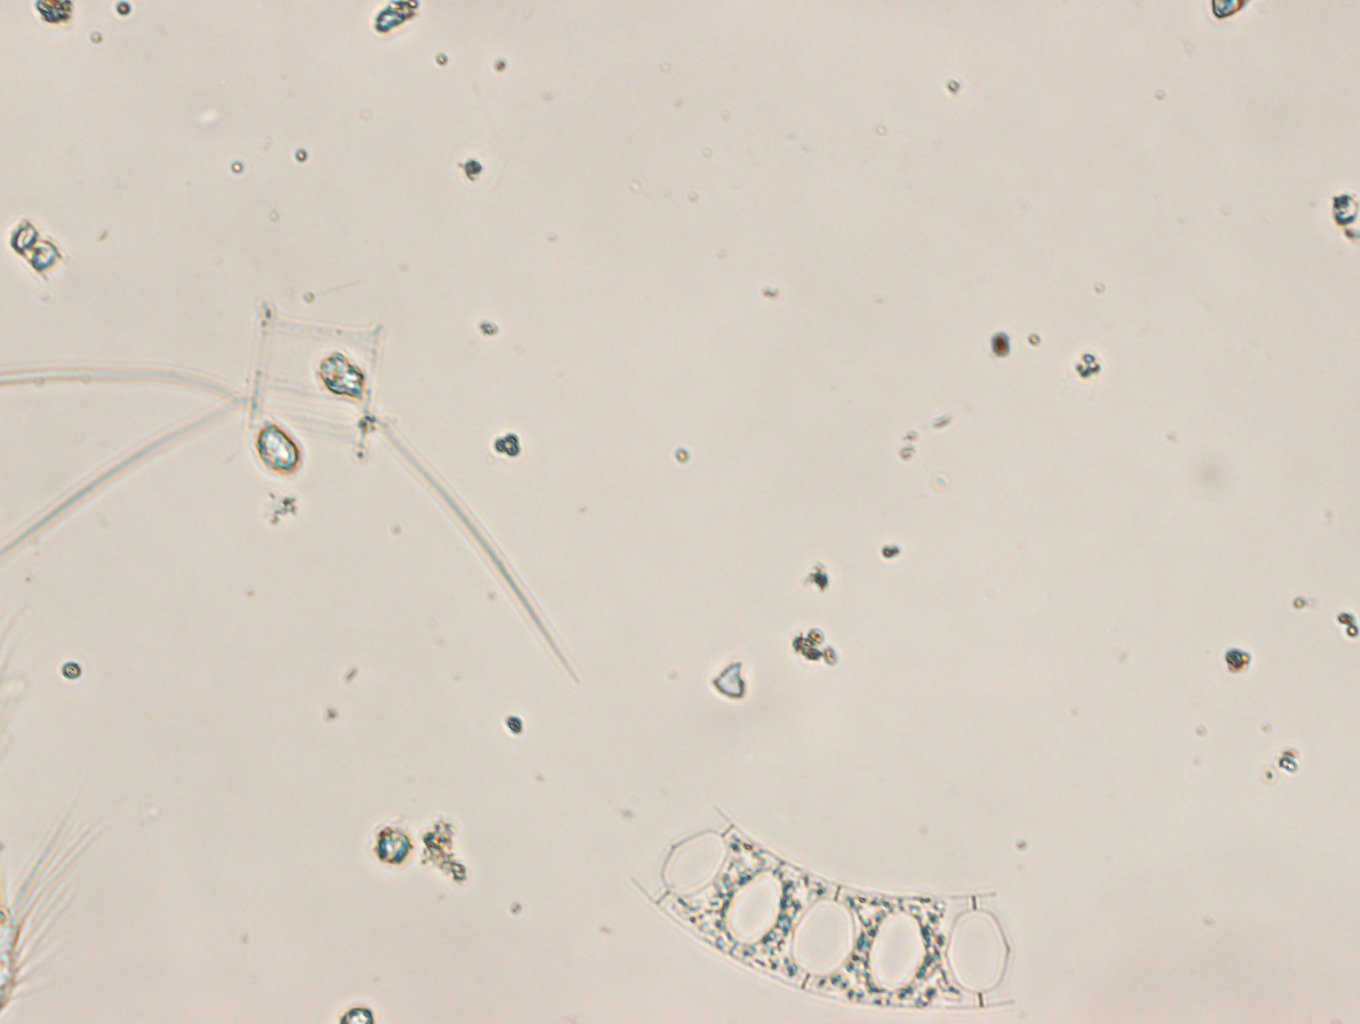chaetoceros: (1, 311, 584, 694)
eucampia: (632, 806, 1016, 1012)
